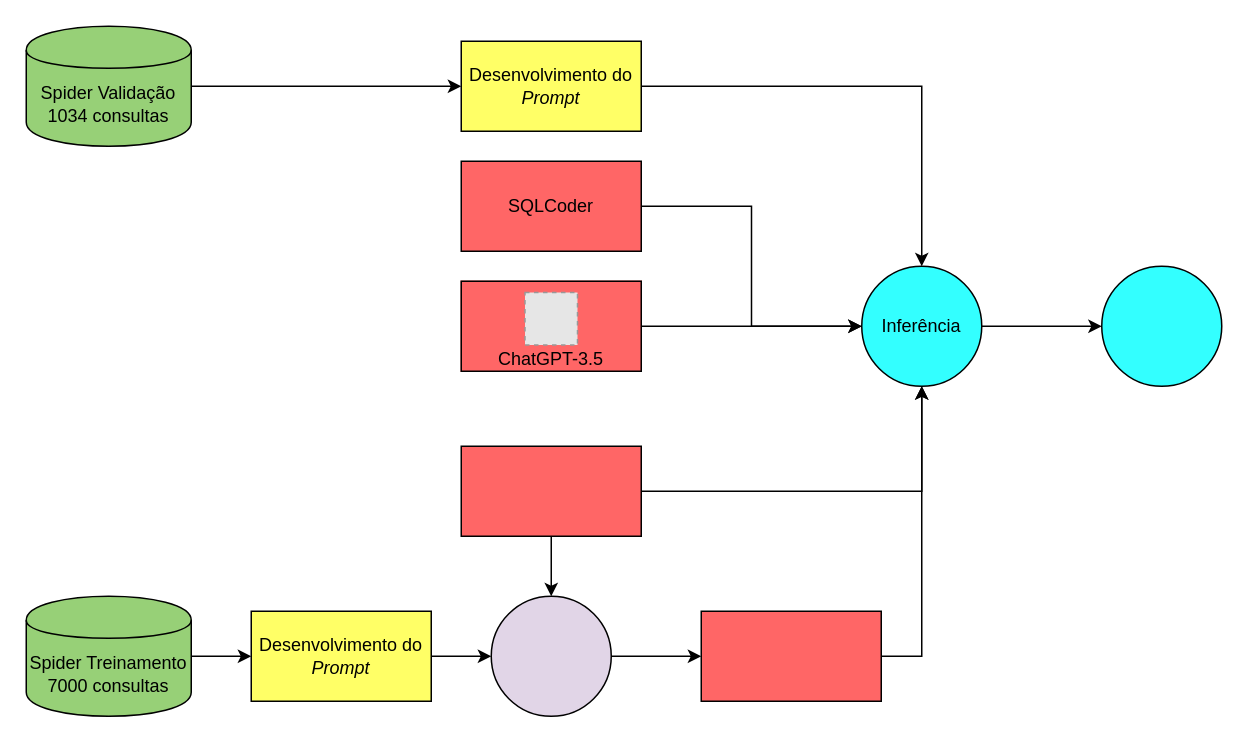
Some shapes in this 1248 by 743 pixel diagram are drawn without their labels. Grey dashed boxes stand in for pictures. Here are the shapes that lost their labels. From the top down, the centre of each, then its label:
At pixel 1161 325: "Avaliação".
At pixel 550 490: "Modelo open-source pré-treinado".
At pixel 550 655: "Supervised Finetuning".
At pixel 790 655: "Modelo Refinado".
